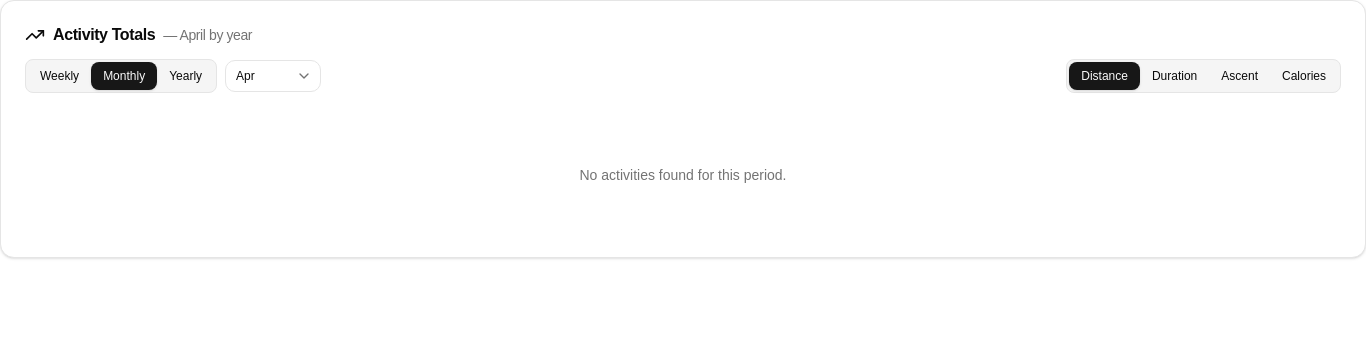
it: GarminActivityTotals › weekly mode renders a safe message for non-error rejections
The width and height of the screenshot is (1366, 364).
Click the radio button labelled "Weekly" at (60, 76), box [28, 62, 91, 90]
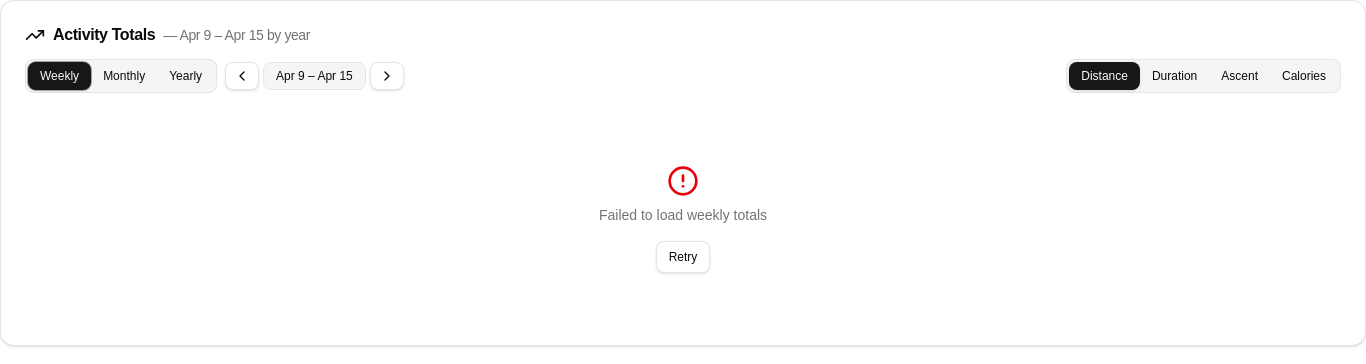
Expected: the text "Failed to load weekly totals" is shown, [599, 205, 767, 225]
